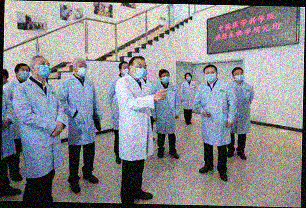with_mask: (36, 60, 52, 79), (134, 63, 149, 81), (75, 62, 88, 78), (17, 67, 31, 81), (205, 70, 218, 83), (160, 73, 172, 85), (234, 71, 245, 83), (121, 65, 131, 78), (186, 74, 193, 83)
